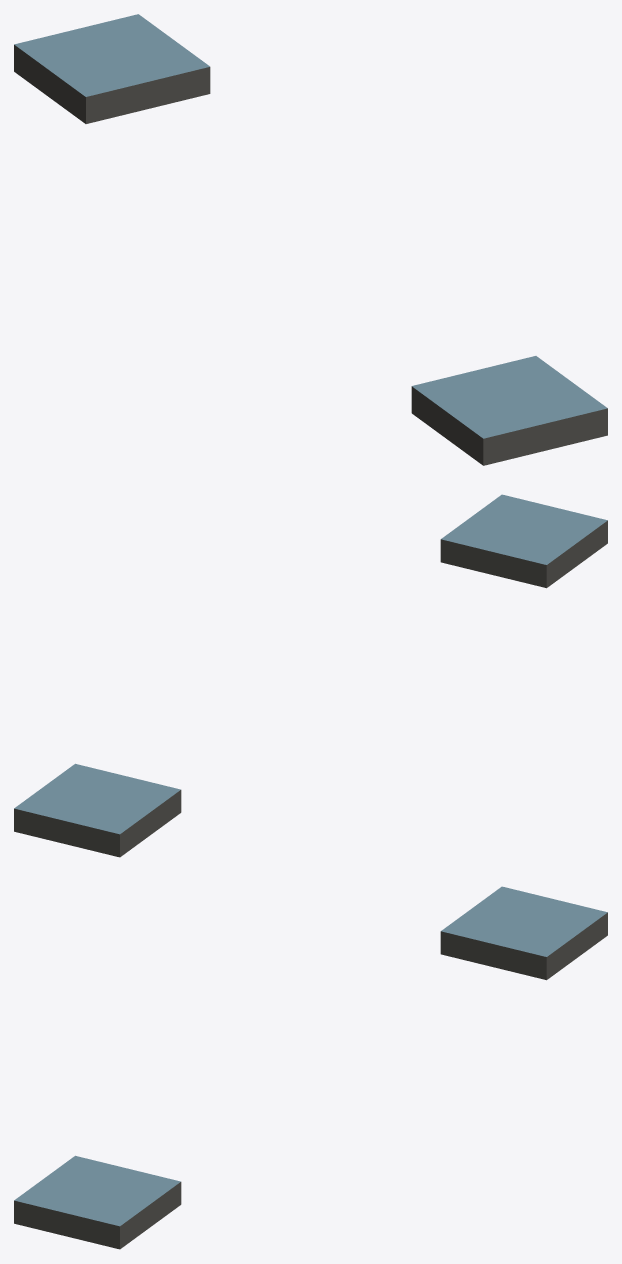
The model's file is 0767-Buildings-shell-pieces-roof-plant-emitRoofPlant-20-triangles-1-70-x-0-25-x-8-70-.glb.
3 renders of one model, top to bottom at view 1: azimuth 30°, elevation 25°; view 2: azimuth 150°, elevation 25°; view 3: azimuth 330°, elevation 25°, orthographic. The views are drawn at different scales.
Parts seen in each view (by area): view 1: emitRoofPlant; view 2: emitRoofPlant; view 3: emitRoofPlant.
Part boxes in pixels (left/top/right/bottom): emitRoofPlant: left=14, top=14, right=607, bottom=465; emitRoofPlant: left=14, top=494, right=607, bottom=857; emitRoofPlant: left=14, top=886, right=607, bottom=1249.
Size of the model in its own units: 1.7 by 0.25 by 8.7.
